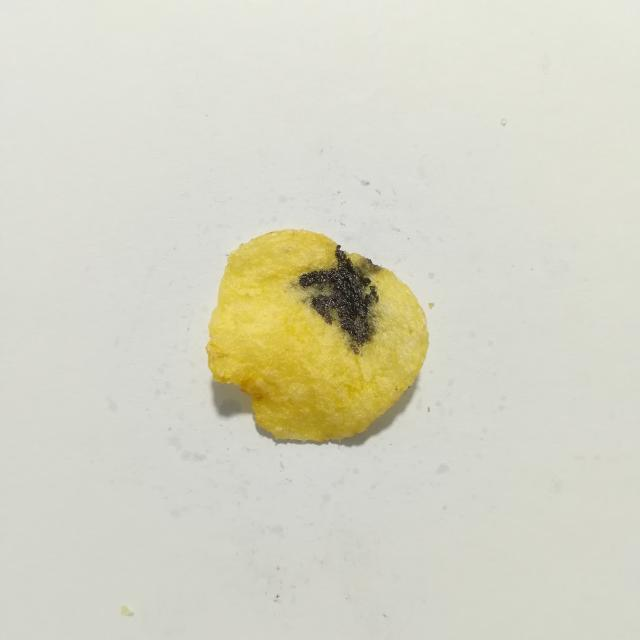chip: (206, 230, 428, 441)
damaged: (299, 245, 378, 354)
semi-damaged: (355, 257, 384, 276)
